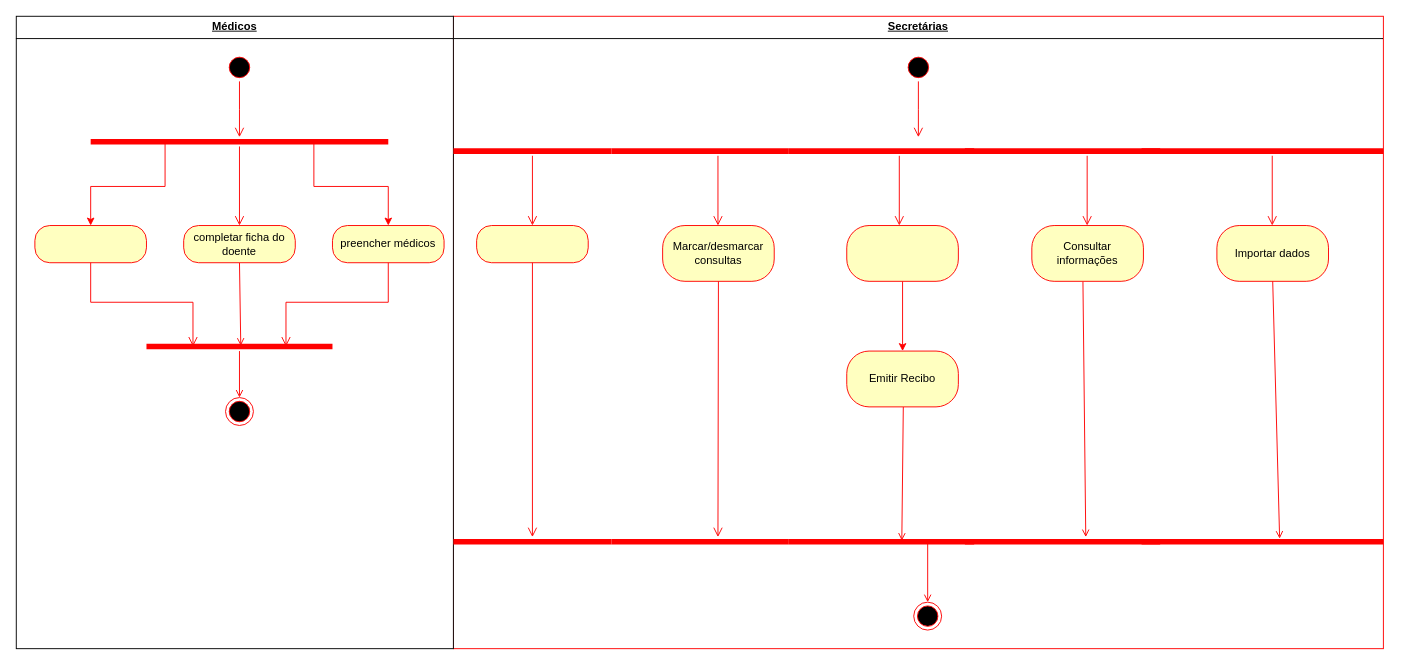
This 1402x665 diagram has some shape labels left out. The centre of each missing label's shape, as x and y in pixels:
"Fazer consultas" belongs at point (90, 244).
"Receber pagamentos" belongs at point (902, 253).
"Regista/altera informação" belongs at point (532, 244).
